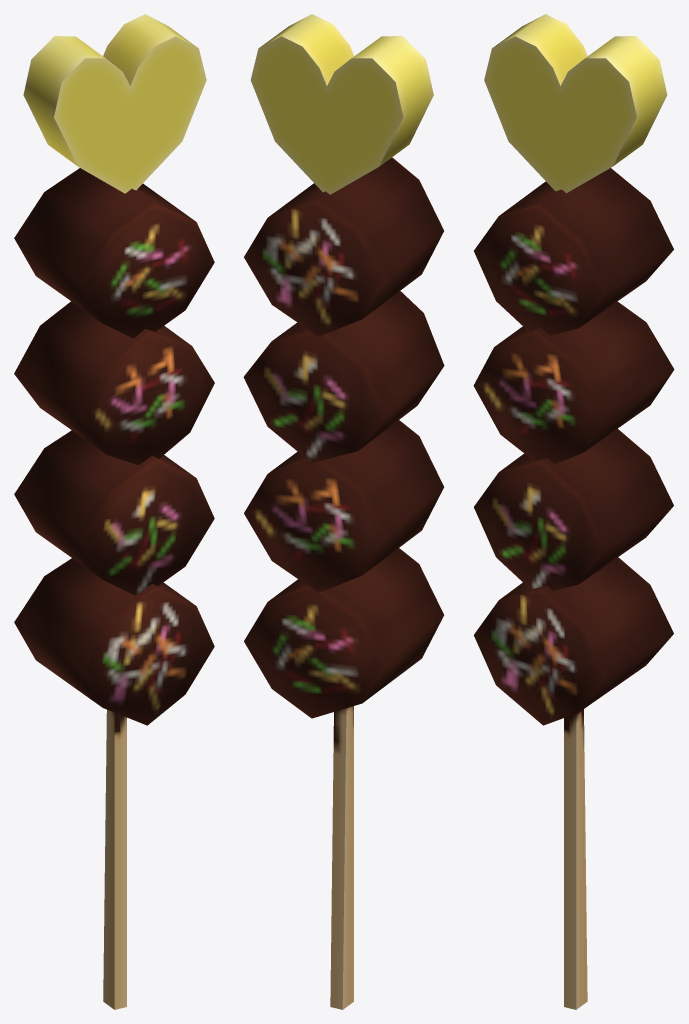
The model's file is jsf_ChocolateBanana_b05_c01.fbx.
3 renders of one model, left to right at view 1: azimuth 30°, elevation 25°; view 2: azimuth 150°, elevation 25°; view 3: azimuth 330°, elevation 25°, orthographic.
Visible parts, largest first — view 1: jsf_ChocolateBanana_b05_c01; view 2: jsf_ChocolateBanana_b05_c01; view 3: jsf_ChocolateBanana_b05_c01.
Part boxes in pixels (<box>): jsf_ChocolateBanana_b05_c01: <box>14,14,214,1009</box>; jsf_ChocolateBanana_b05_c01: <box>243,14,444,1009</box>; jsf_ChocolateBanana_b05_c01: <box>473,14,674,1009</box>.
Bounding box in the file's own units: 4.34 × 26.28 × 3.41.
